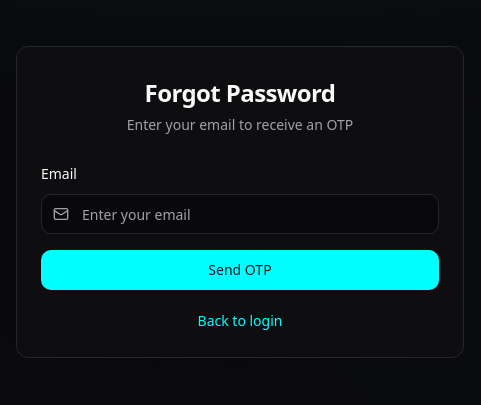
Test: ForgotPassword › starts over when the OTP response has no reset token
Type "buyer@example.com" into the field labelled "Email". click: (240,214)
box: [41, 194, 439, 234]
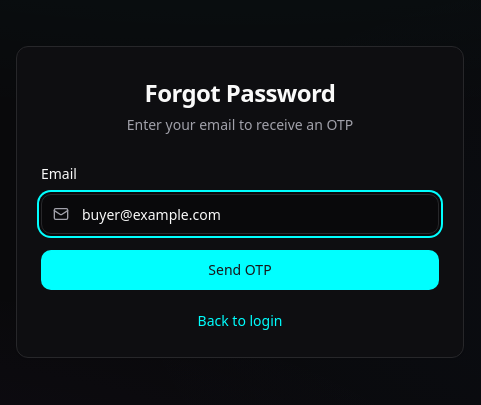
Click the button "Send OTP". click: (240,270)
box: [41, 250, 439, 290]
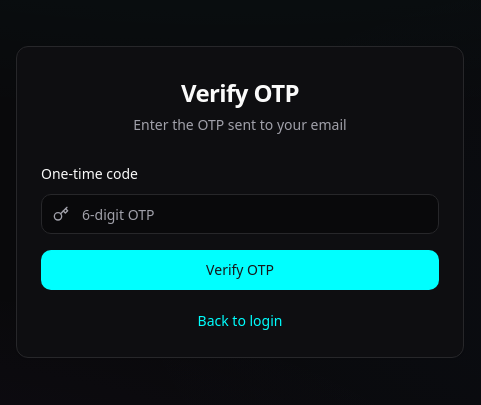
Type "123456" into the field labelled "One-time code". click: (240,214)
box: [41, 194, 439, 234]
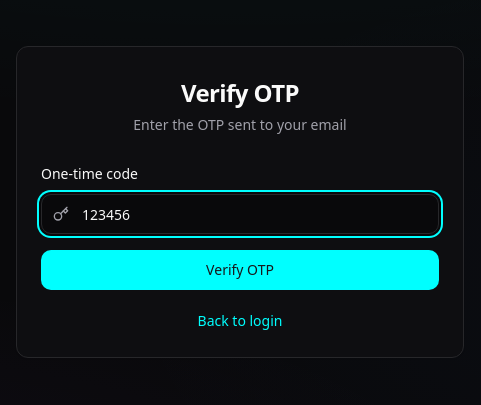
Click the button "Verify OTP". click: (240,270)
box: [41, 250, 439, 290]
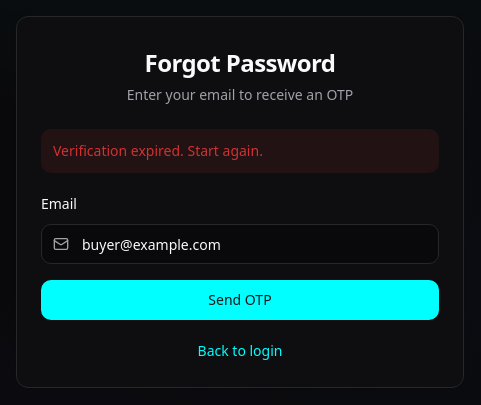
Check: the message shows "Verification expired", box [53, 141, 263, 160]
Check: the button "Send OTP" is shown, box [41, 280, 439, 320]
